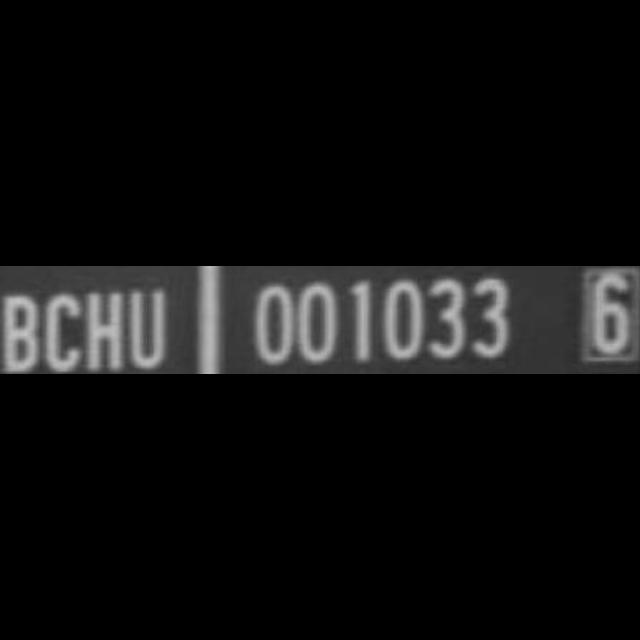0: (380, 277, 426, 367), (296, 279, 340, 366), (254, 282, 296, 370)
1: (348, 278, 377, 368)
3: (426, 274, 469, 368), (471, 273, 512, 361)
6: (588, 270, 634, 356)
b: (0, 286, 40, 374)
c: (41, 288, 85, 374)
h: (86, 286, 126, 374)
u: (126, 284, 172, 374)
